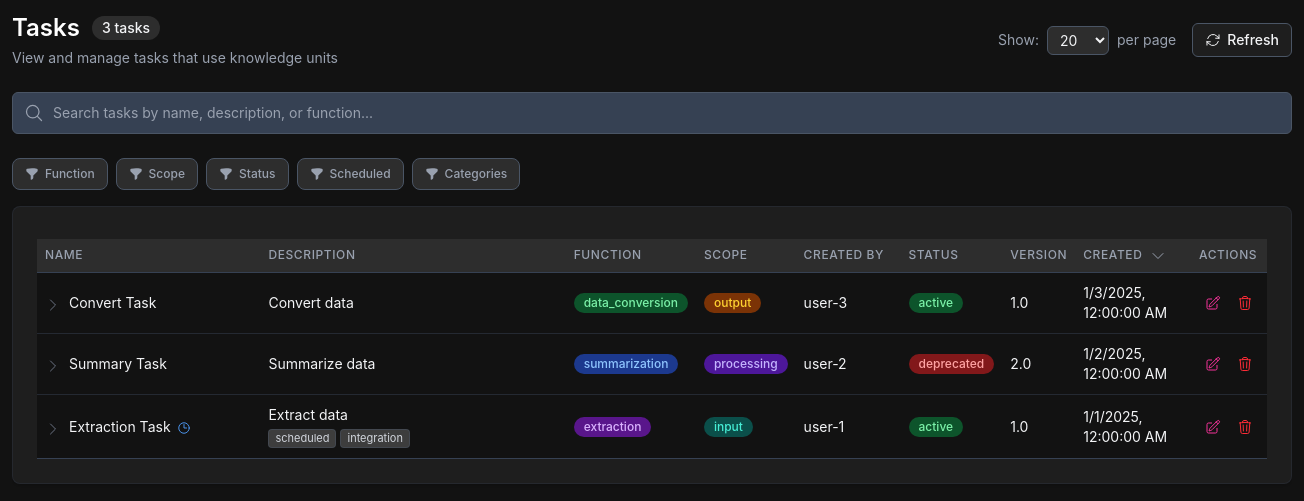
Scenario: Tasks - Filter Integration › filters to show only scheduled tasks
This screenshot has width=1304, height=501.
// Open Scheduled dropdown and deselect "Unscheduled"
Click the button "Scheduled": (350, 174) [296, 158, 404, 190]
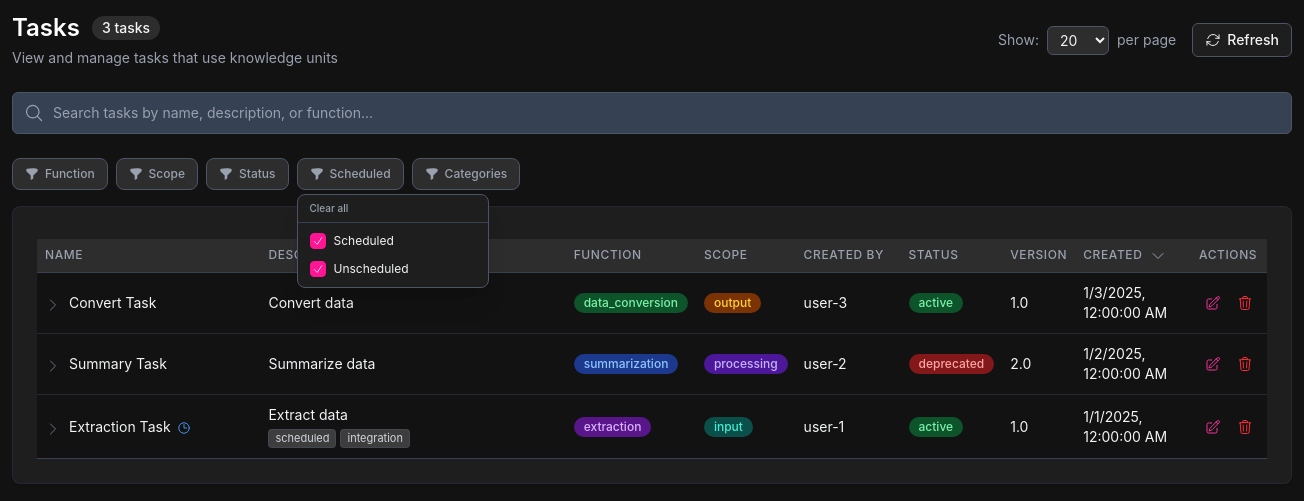
Click the option "Unscheduled": (392, 269) [298, 255, 488, 283]
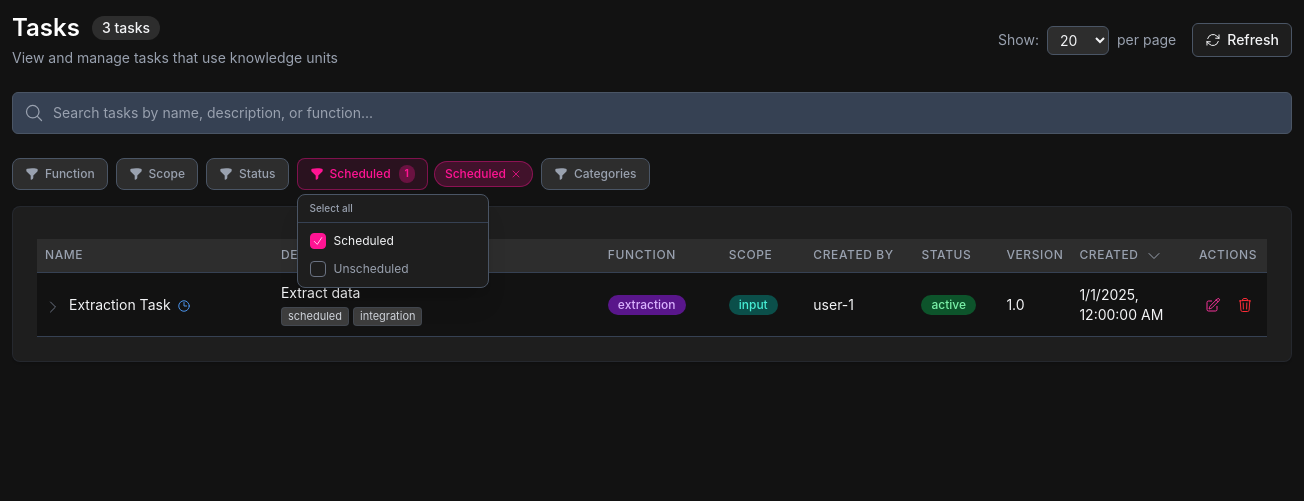
Expected: the text "Extraction Task" is shown, [69, 295, 191, 315]
Expected: the text "Summary Task" is gone
